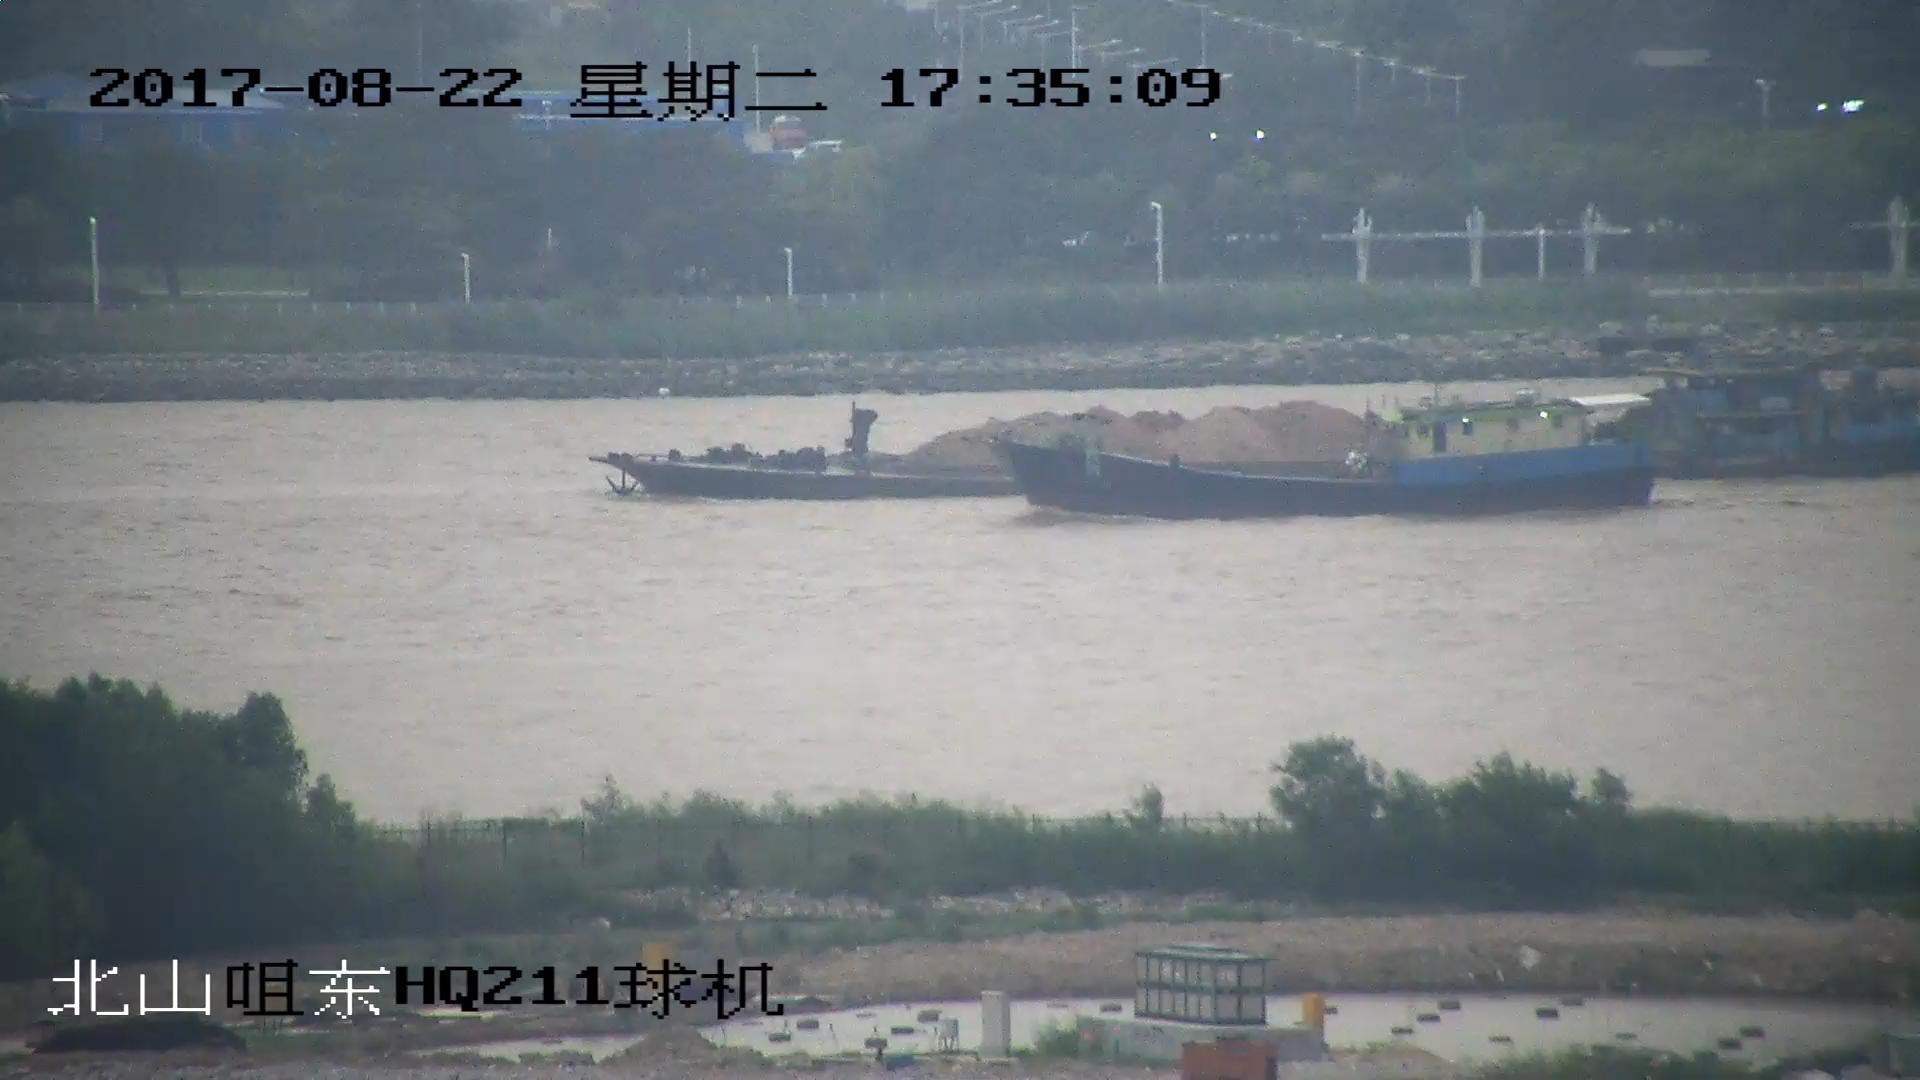Ship: (596, 360, 1920, 501), (1002, 378, 1654, 516)
